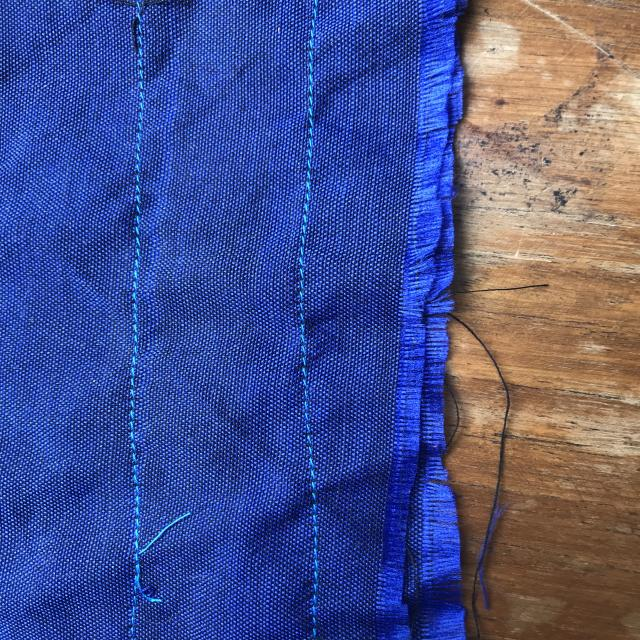good: (124, 110, 154, 196), (300, 160, 321, 244)
